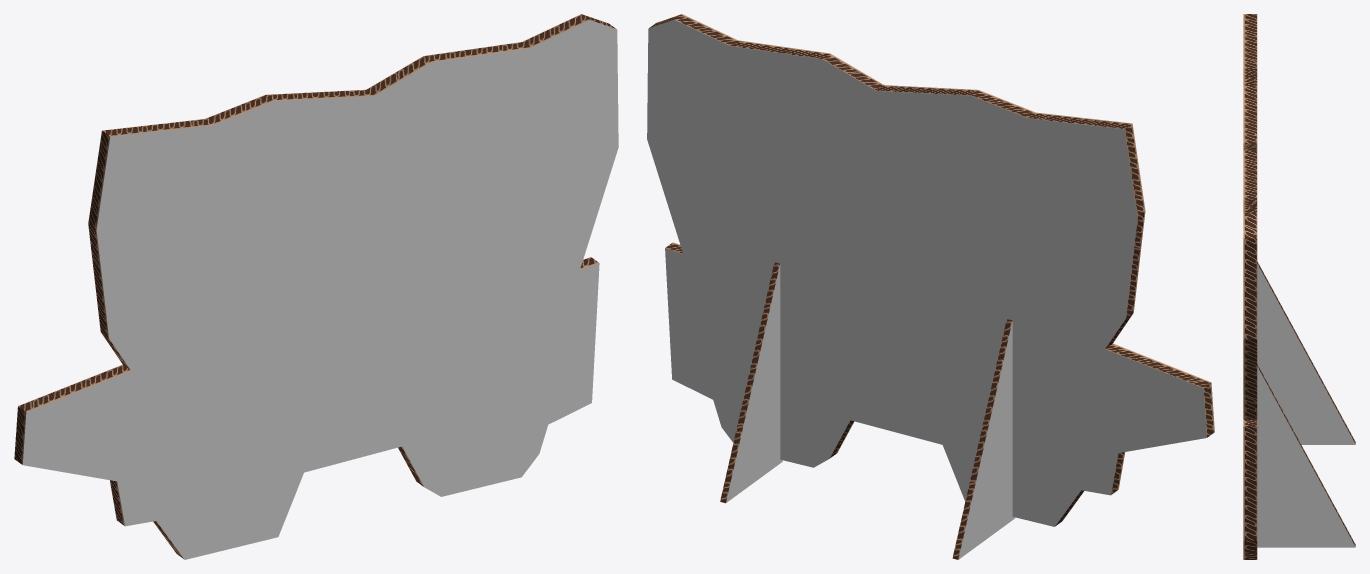
Rendered from v_hicule.fbx.
3 views of the same model, side by side, from view 1: azimuth 30°, elevation 25°; view 2: azimuth 150°, elevation 25°; view 3: azimuth 270°, elevation 25° (orthographic). The views are drawn at different scales.
Parts seen in each view (by area): view 1: véhicule_LOD0; view 2: véhicule_LOD0; view 3: véhicule_LOD0.
Part boxes in pixels (x1=…): véhicule_LOD0: x1=14, y1=14, x2=618, y2=559; véhicule_LOD0: x1=647, y1=14, x2=1214, y2=559; véhicule_LOD0: x1=1243, y1=14, x2=1355, y2=559.
Bounding box in the file's own units: 958 × 684 × 184.
